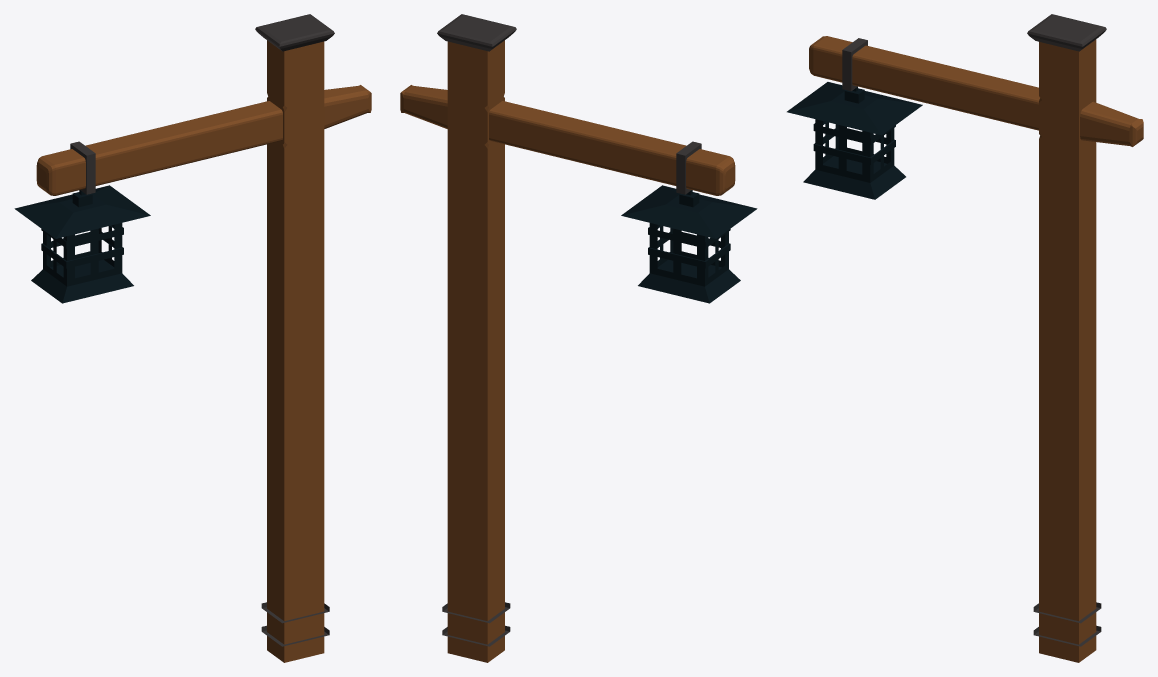
File: Farol.fbx
3 views of the same model, side by side, from view 1: azimuth 30°, elevation 25°; view 2: azimuth 150°, elevation 25°; view 3: azimuth 330°, elevation 25° (orthographic).
Visible parts, largest first — view 1: mastil; view 2: mastil; view 3: mastil.
Boxes of the visible parts, bbox=[...] form: mastil: bbox=[14, 14, 371, 662]; mastil: bbox=[400, 14, 757, 662]; mastil: bbox=[787, 14, 1143, 662].
Size of the model in its own units: 620 by 1107 by 134.
